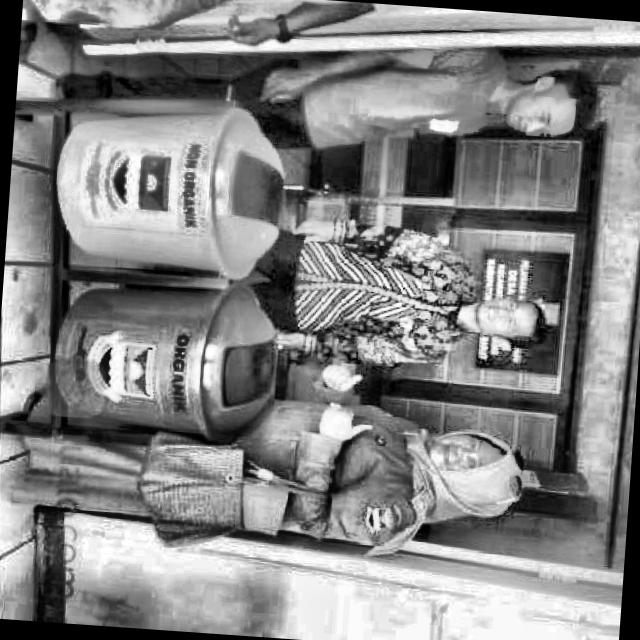Dustbin: (40, 88, 295, 284), (39, 268, 286, 456)
